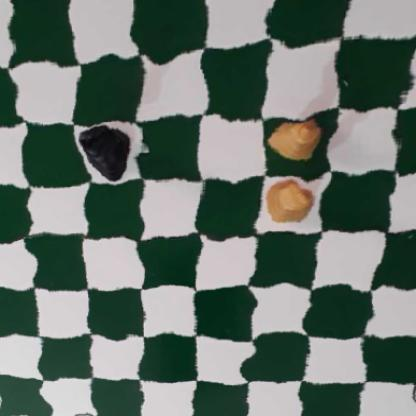black-king: (83, 123, 130, 177)
white-bishop: (263, 110, 323, 164)
white-king: (260, 176, 319, 229)
